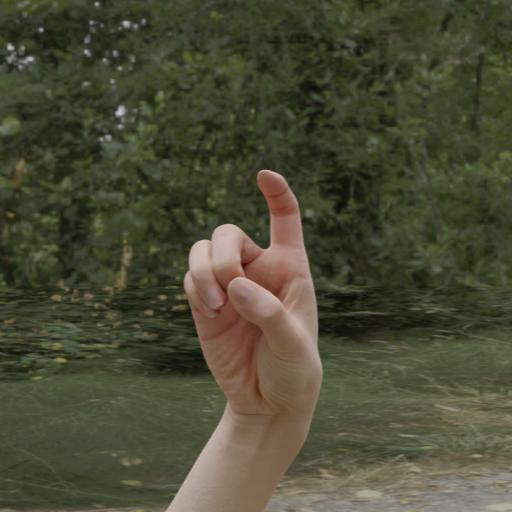X: (144, 142, 366, 445)
